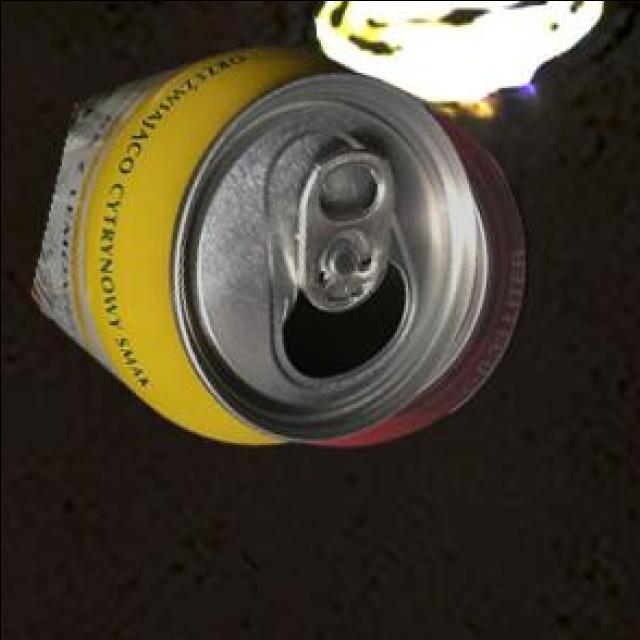logam: (27, 42, 471, 441), (301, 90, 526, 441)
